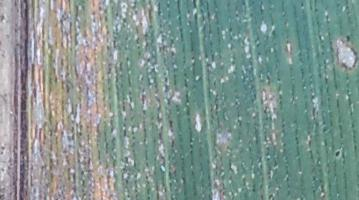tarspot: (163, 83, 170, 95), (1, 13, 7, 25), (102, 14, 109, 24), (168, 118, 174, 129), (170, 138, 176, 149), (334, 150, 341, 158), (345, 34, 351, 43), (163, 75, 169, 84), (313, 7, 320, 14), (233, 12, 240, 19), (103, 6, 109, 14), (145, 56, 151, 64), (170, 50, 176, 58), (77, 130, 83, 138), (1, 144, 7, 151), (299, 2, 305, 8), (97, 5, 102, 12), (1, 150, 5, 158)
